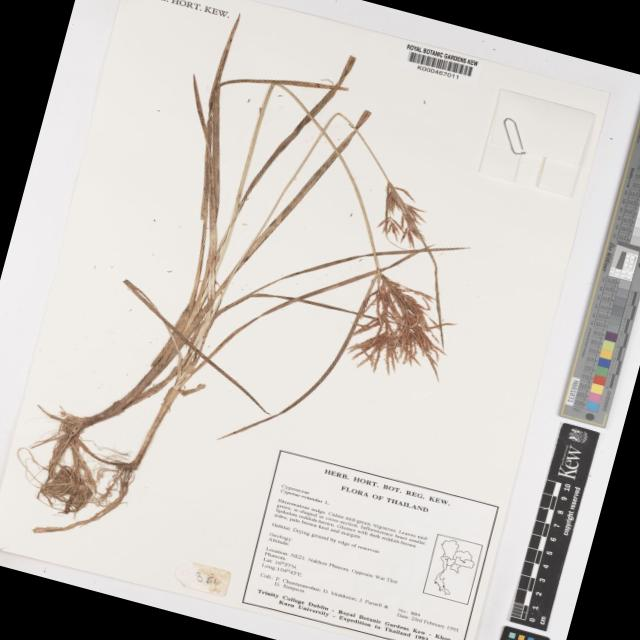cyperus: (332, 256, 474, 391), (354, 172, 440, 256)
